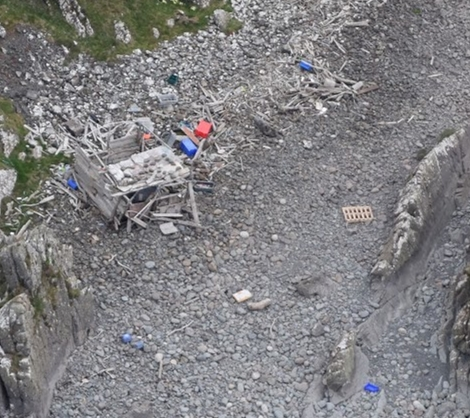white_in_green: (328, 182, 390, 243), (211, 265, 273, 326), (345, 362, 402, 413), (281, 49, 333, 92), (105, 315, 155, 359), (148, 59, 194, 98)
wood_together: (43, 91, 227, 234)
